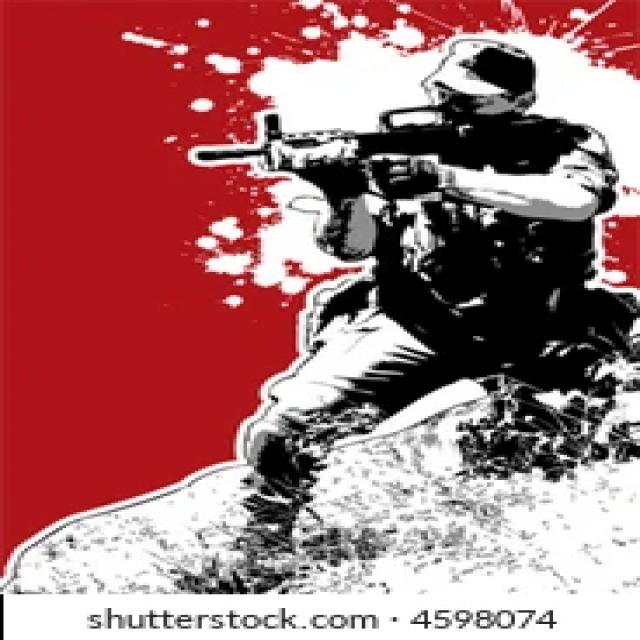soldier: (164, 23, 640, 592)
